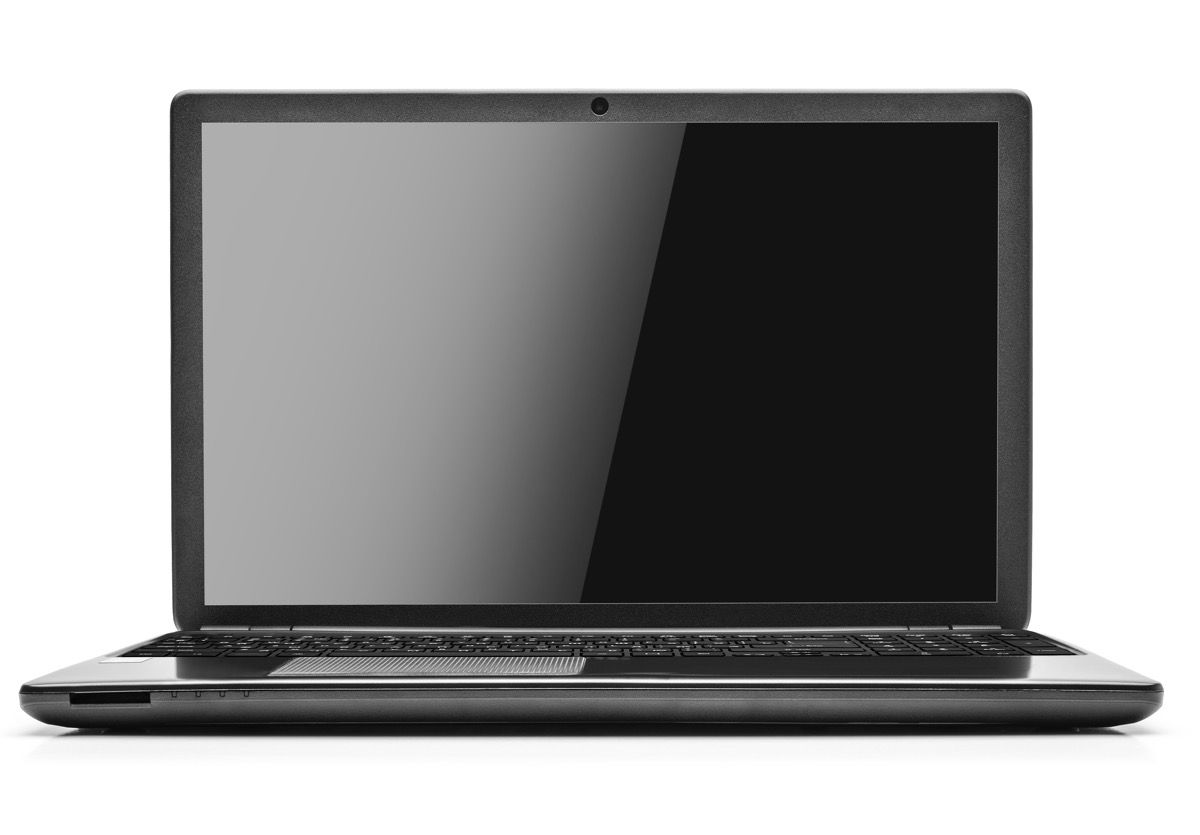laptop: (53, 67, 1129, 753)
